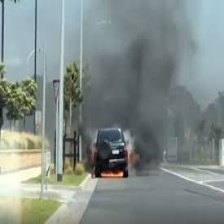smoke: (81, 7, 183, 129)
